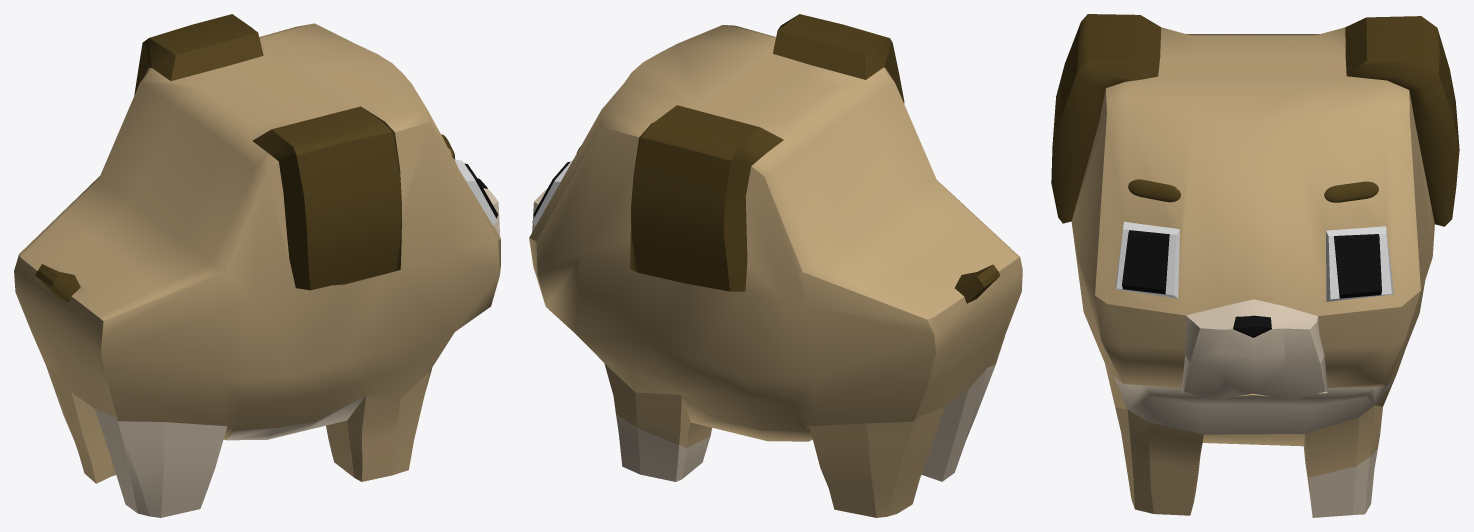
Rendered from Spikey_unrigged.fbx.
3 views of the same model, side by side, from view 1: azimuth 30°, elevation 25°; view 2: azimuth 150°, elevation 25°; view 3: azimuth 270°, elevation 25° (orthographic). The views are drawn at different scales.
Parts seen in each view (by area): view 1: SPIKEY_1; view 2: SPIKEY_1; view 3: SPIKEY_1.
Boxes of the visible parts, <box> form: SPIKEY_1: <box>14,14,500,517</box>; SPIKEY_1: <box>529,14,1022,517</box>; SPIKEY_1: <box>1051,14,1459,517</box>.
Bounding box in the file's own units: 10.58 × 8.69 × 7.55.
